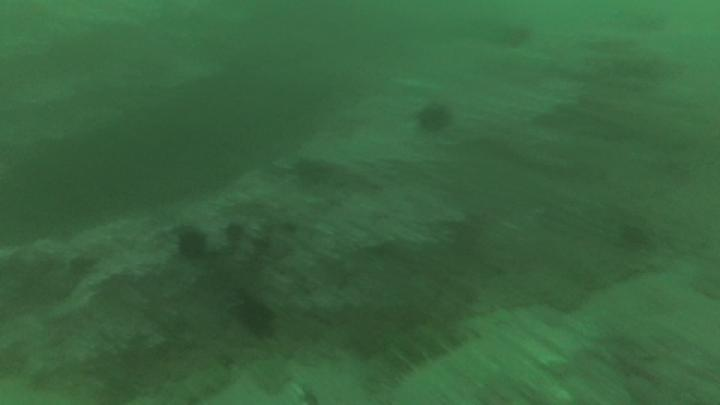echinus: (237, 303, 277, 339), (179, 231, 207, 261), (420, 106, 449, 134)
holothurian: (367, 327, 464, 390)
